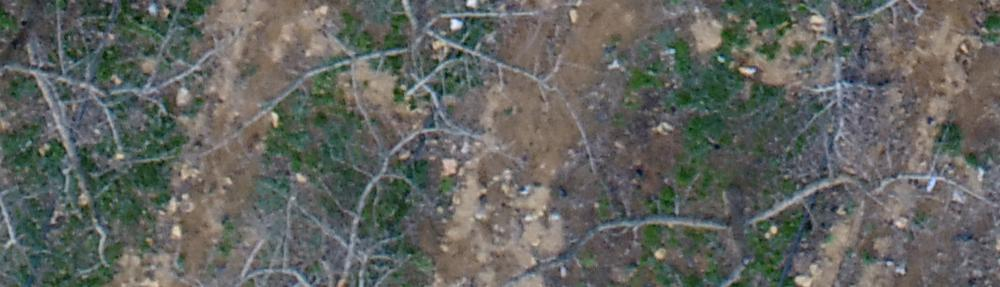apple: (526, 10, 985, 171), (235, 10, 607, 182), (10, 10, 238, 265), (516, 157, 990, 277)
